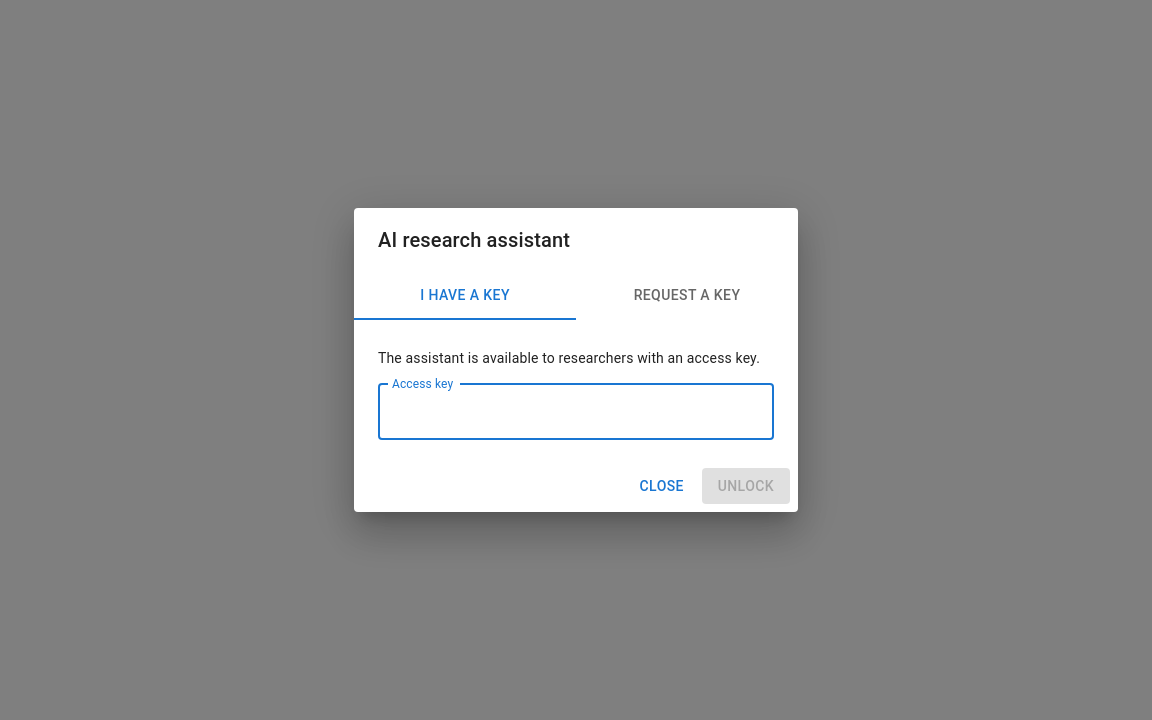
it: AIAccessModal › keeps nothing and says so when the key is wrong
Type "wrong" into the password field labelled "Access key" at (576, 412), box left=378, top=384, right=774, bottom=440
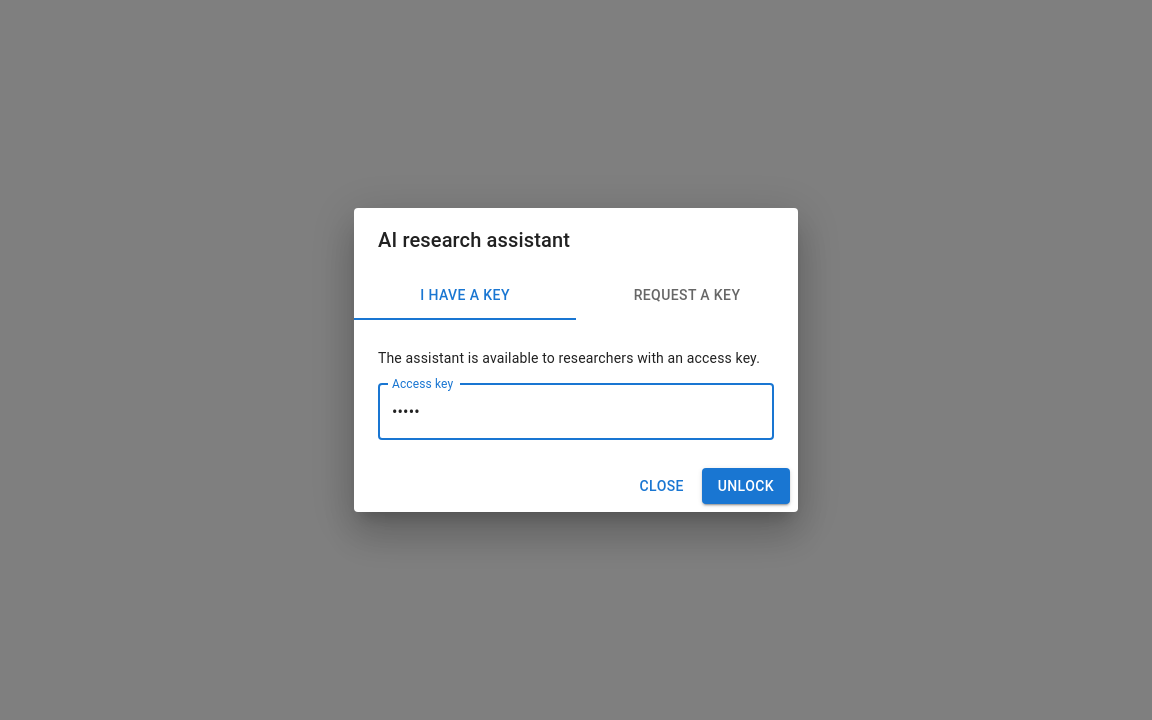
Click the button "Unlock" at (746, 486), box left=702, top=468, right=790, bottom=504
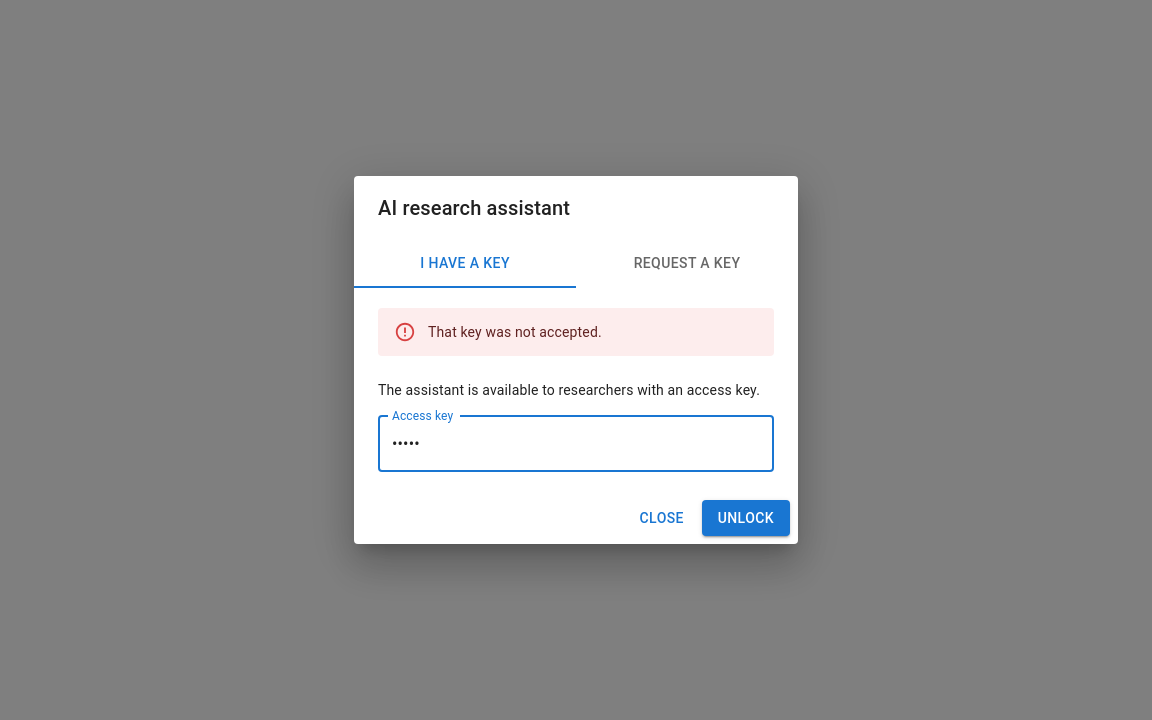
Check: the text "That key was not accepted." is shown, box left=428, top=324, right=602, bottom=340
